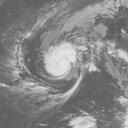cyclone: (42, 42, 79, 81)
